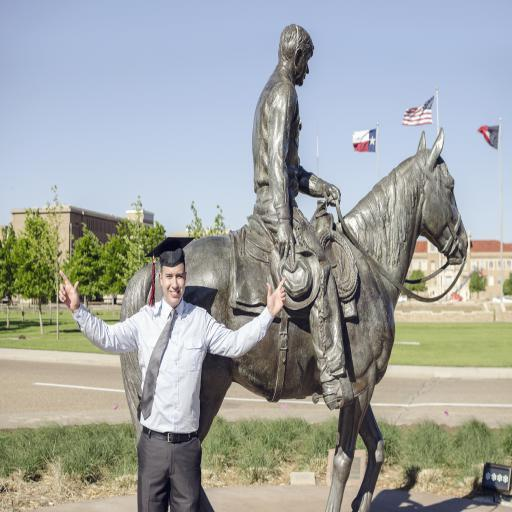Horse: (119, 126, 473, 508)
